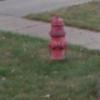a fire hydrant: (48, 16, 68, 61)
